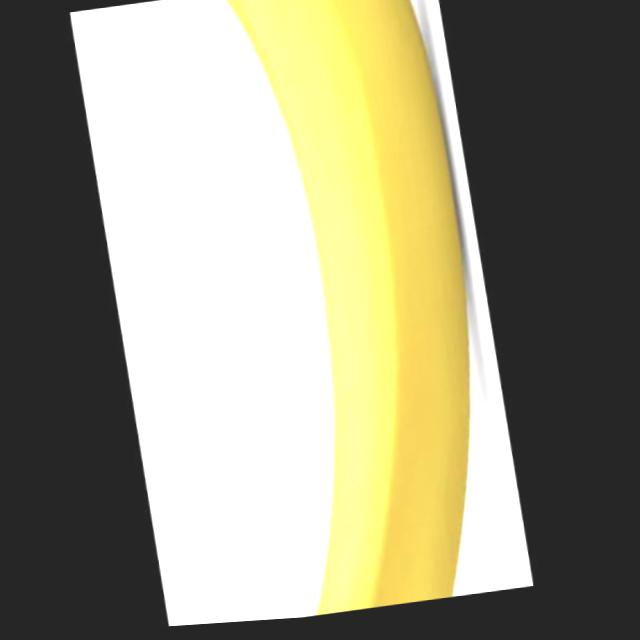Banana: (192, 0, 510, 626)
